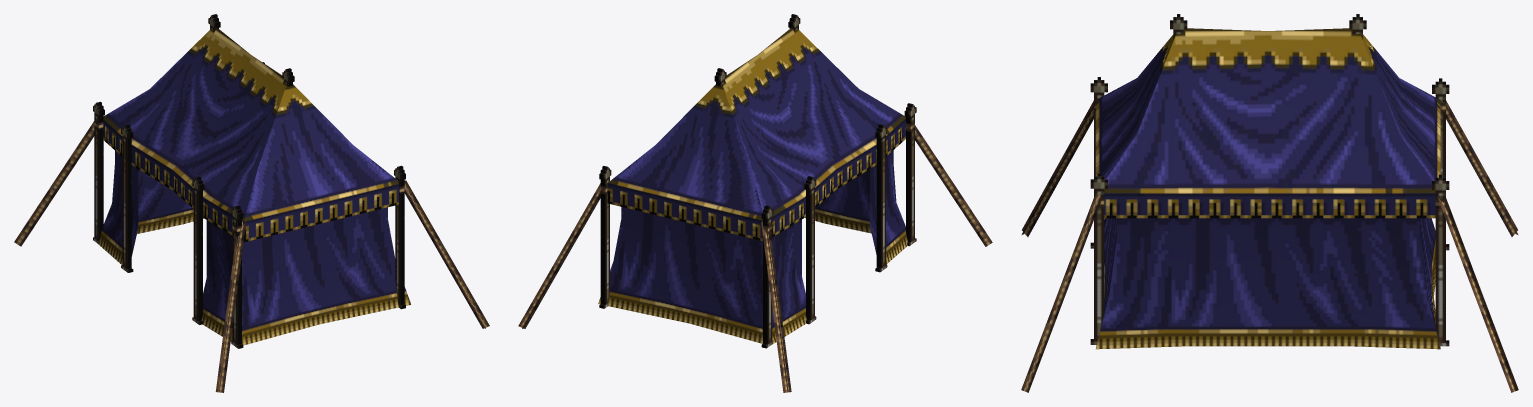
The model's file is ObjMD_Battlefield_BaseCamp.FBX.
3 views of the same model, side by side, from view 1: azimuth 30°, elevation 25°; view 2: azimuth 150°, elevation 25°; view 3: azimuth 270°, elevation 25° (orthographic). The views are drawn at different scales.
Parts seen in each view (by area): view 1: ObjMD_Battlefield_BaseCamp; view 2: ObjMD_Battlefield_BaseCamp; view 3: ObjMD_Battlefield_BaseCamp.
Part boxes in pixels (x1,y1,x2,y2): ObjMD_Battlefield_BaseCamp: (14,14,489,392); ObjMD_Battlefield_BaseCamp: (518,14,992,392); ObjMD_Battlefield_BaseCamp: (1021,14,1518,392).
Bounding box in the file's own units: 689 × 597 × 902.
